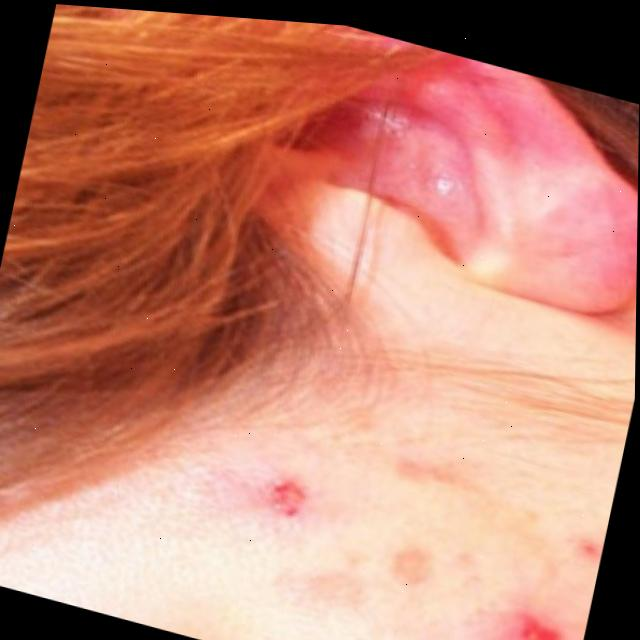Acne: (254, 477, 305, 527), (482, 598, 541, 640)
